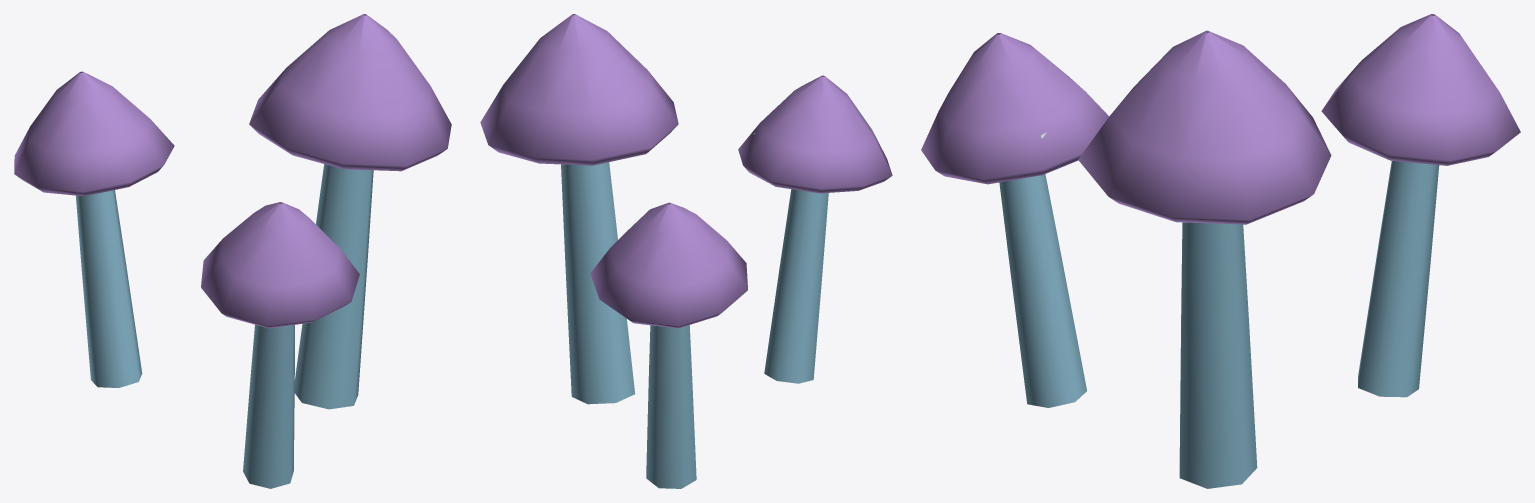
The model's file is ing_dreamcap.gltf.
The picture shows the model from 3 angles, left to right: view 1: azimuth 30°, elevation 25°; view 2: azimuth 150°, elevation 25°; view 3: azimuth 270°, elevation 25°; orthographic projection. The views are drawn at different scales.
Parts seen in each view (by area): view 1: ing_dreamcap; view 2: ing_dreamcap; view 3: ing_dreamcap.
Boxes of the visible parts, x1,y1,x2,y2 form: ing_dreamcap: [14, 14, 451, 488]; ing_dreamcap: [480, 14, 892, 488]; ing_dreamcap: [921, 14, 1520, 488].
Size of what is drawn, in the model's own units: 0.1835 by 0.201 by 0.2367.
